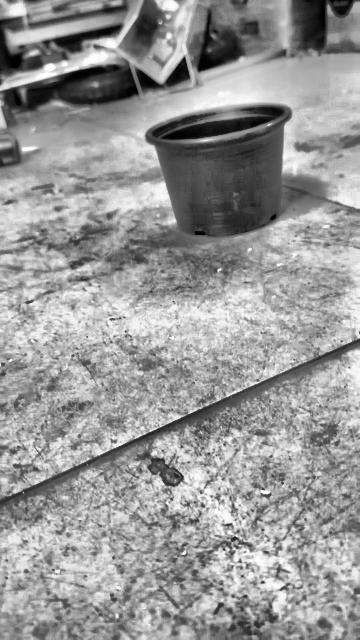pot: (147, 103, 291, 237)
